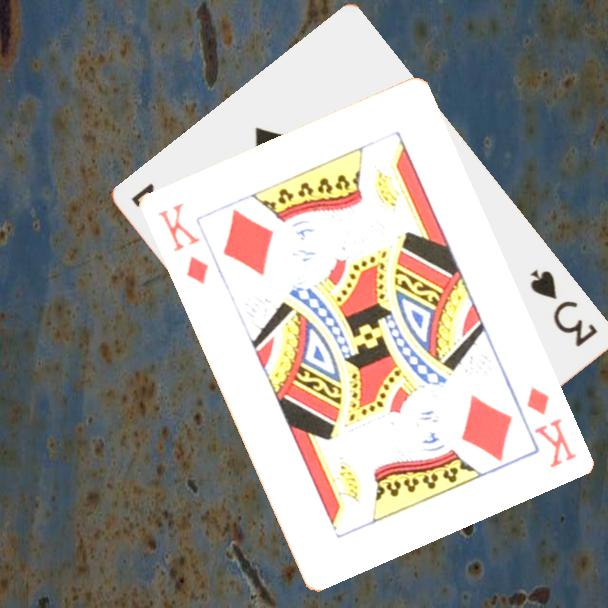d13: (153, 199, 211, 287), (522, 383, 580, 471)
s03: (526, 265, 601, 350)
